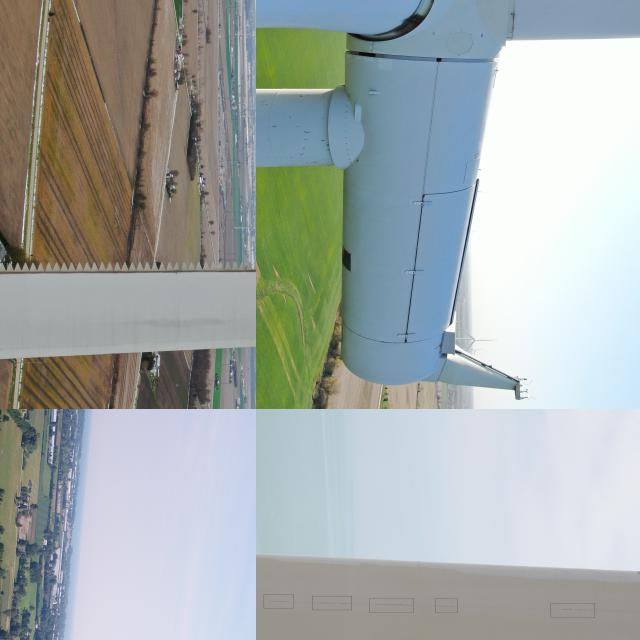damage: (379, 9, 439, 45), (312, 598, 352, 606), (552, 605, 590, 613), (265, 594, 291, 602), (368, 602, 412, 606), (438, 603, 458, 607)
